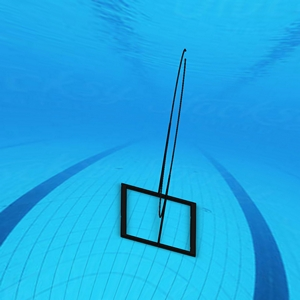circle: (118, 47, 199, 260)
